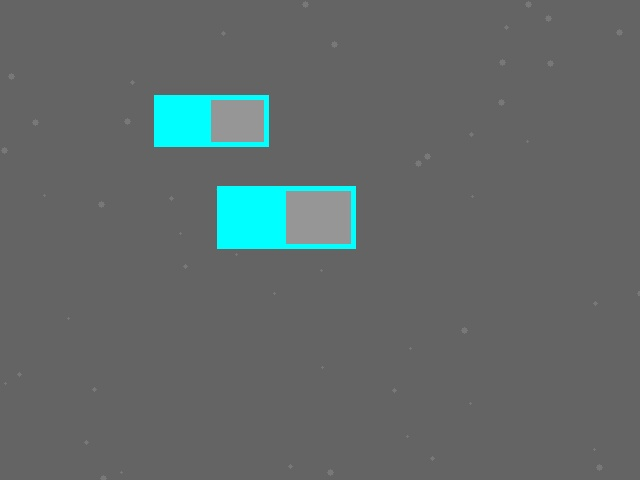truck: (217, 186, 355, 248), (154, 95, 268, 146)
